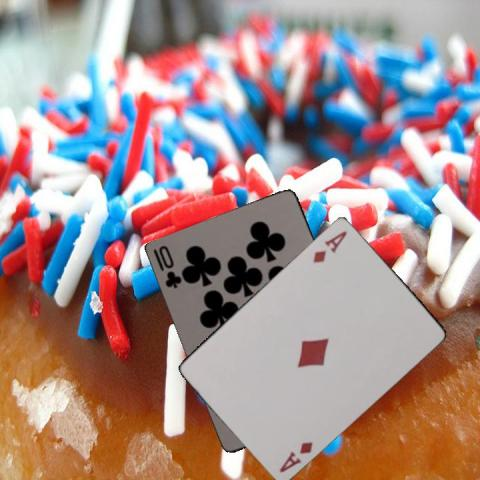10c: (151, 242, 184, 290)
Ad: (309, 227, 349, 265), (276, 438, 314, 474)
